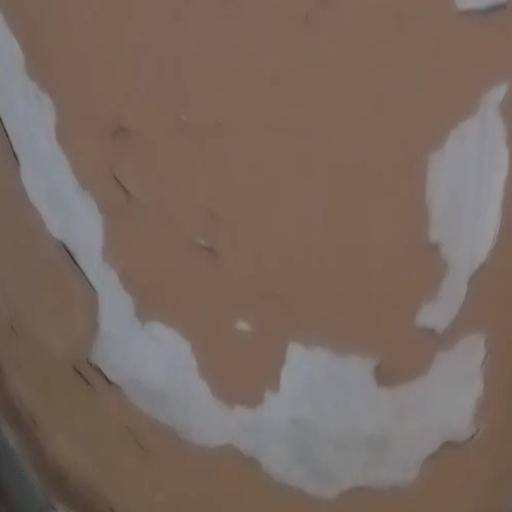peeling: (76, 292, 491, 501), (0, 0, 158, 309), (388, 61, 512, 339), (449, 0, 511, 37)
